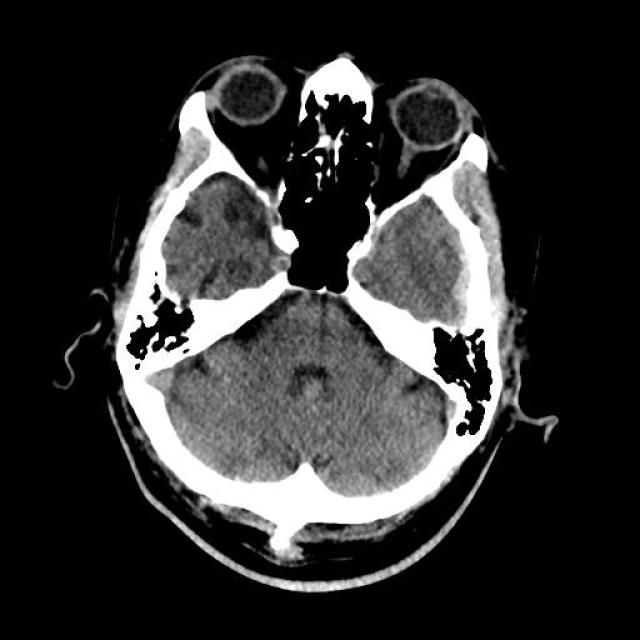Subdural: (416, 210, 512, 338)
